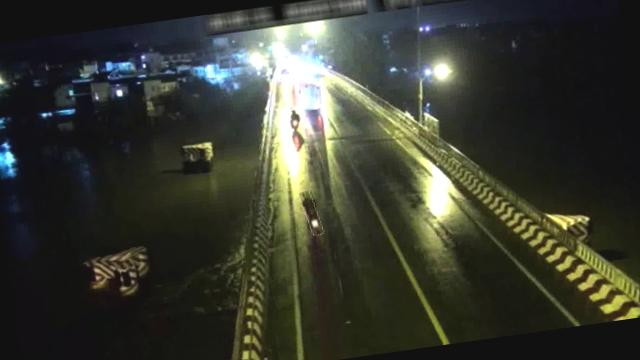Bike: (300, 188, 321, 236), (286, 108, 304, 130)
Truck: (286, 75, 322, 112)
